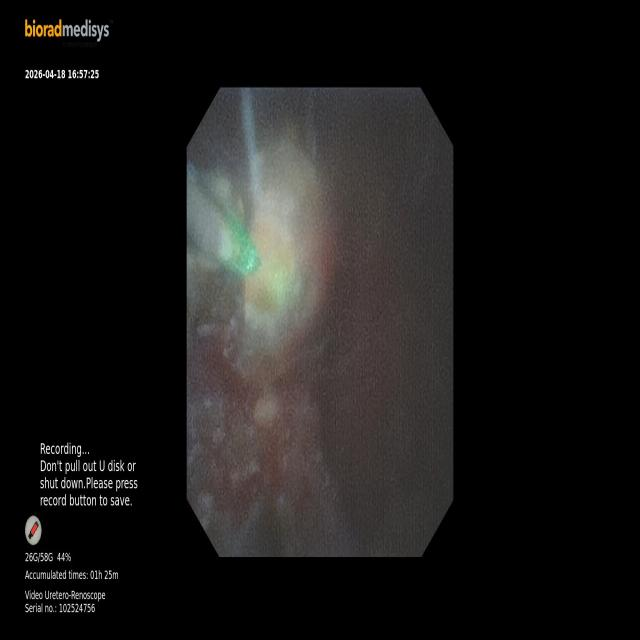laser_dot: (270, 267, 290, 302)
stone-new: (244, 137, 328, 369)
